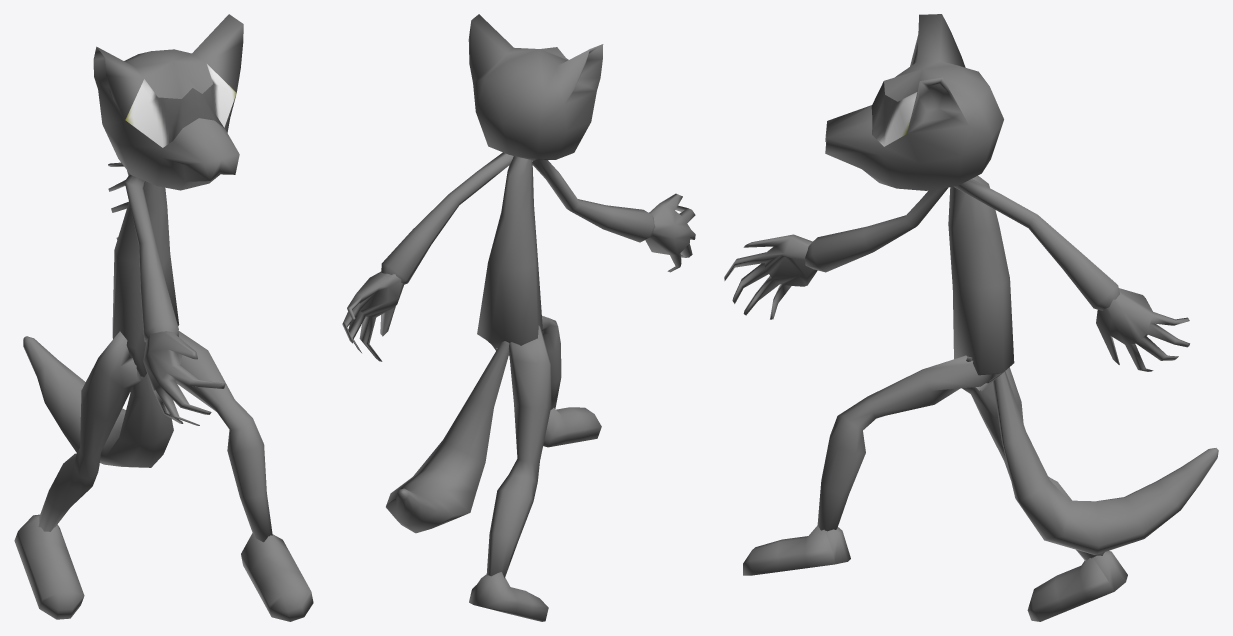
Rendered from werewolfrun4.obj.
3 views of the same model, side by side, from view 1: azimuth 30°, elevation 25°; view 2: azimuth 150°, elevation 25°; view 3: azimuth 270°, elevation 25° (orthographic). The views are drawn at different scales.
Parts seen in each view (by area): view 1: Sphere001, Object001; view 2: Sphere001; view 3: Sphere001, Object001.
Boxes of the visible parts, x1,y1,x2,y2 form: Sphere001: [14, 14, 313, 621]; Object001: [125, 64, 236, 147]; Sphere001: [342, 14, 695, 621]; Sphere001: [724, 14, 1218, 621]; Object001: [871, 81, 917, 146].
Bounding box in the file's own units: 51.85 × 160 × 120.
